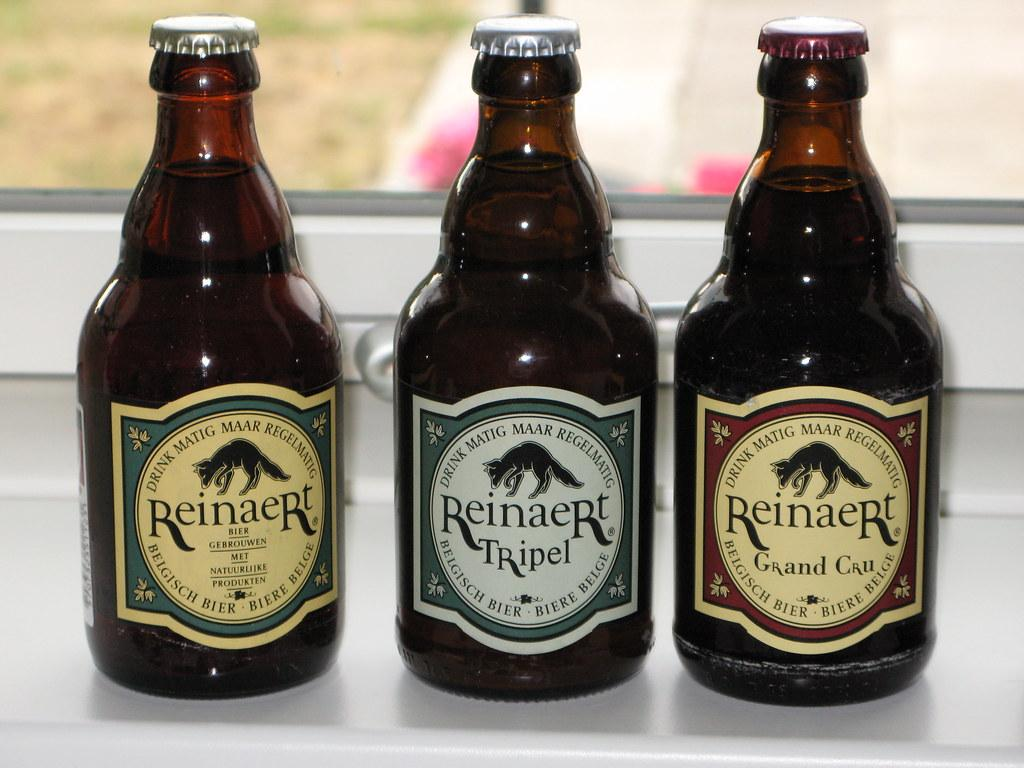bottle: (672, 16, 945, 707), (76, 13, 346, 701), (393, 14, 660, 703)
